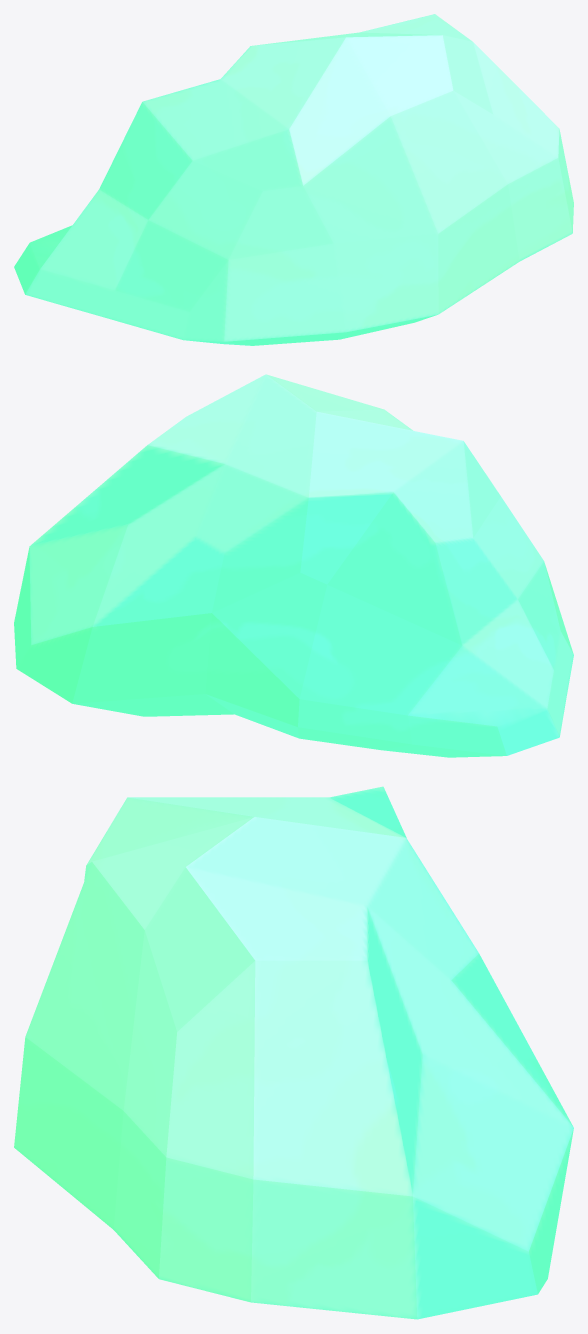
Rendered from OreRock05_Model (1).fbx.
The picture shows the model from 3 angles, top to bottom: view 1: azimuth 30°, elevation 25°; view 2: azimuth 150°, elevation 25°; view 3: azimuth 270°, elevation 25°; orthographic projection. The views are drawn at different scales.
Parts seen in each view (by area): view 1: pPlane3; view 2: pPlane3; view 3: pPlane3.
Boxes of the visible parts, x1,y1,x2,y2 form: pPlane3: (14,14,573,345); pPlane3: (14,374,573,757); pPlane3: (14,786,573,1319).
Bounding box in the file's own units: 3.28 × 1.49 × 2.08.
